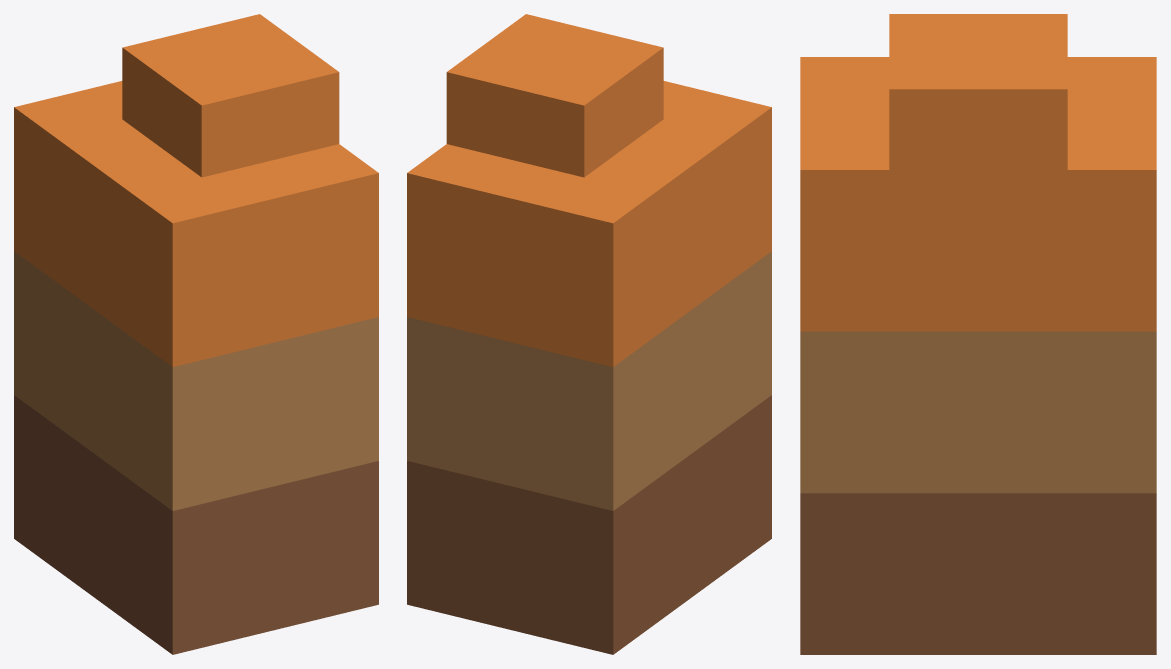
Rendered from cleric__arm_l.glb.
3 views of the same model, side by side, from view 1: azimuth 30°, elevation 25°; view 2: azimuth 150°, elevation 25°; view 3: azimuth 270°, elevation 25° (orthographic). The views are drawn at different scales.
Parts seen in each view (by area): view 1: cleric__arm_l; view 2: cleric__arm_l; view 3: cleric__arm_l.
Part boxes in pixels (x1=…): cleric__arm_l: x1=14, y1=14, x2=378, y2=654; cleric__arm_l: x1=407, y1=14, x2=771, y2=654; cleric__arm_l: x1=800, y1=14, x2=1156, y2=654.
Size of the model in its own units: 0.3 by 0.7 by 0.4.
1 material, 1 textured.
